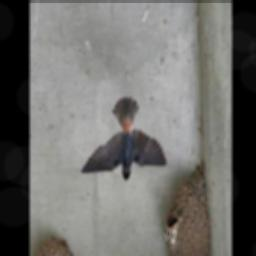Swallow: (77, 96, 167, 183)
